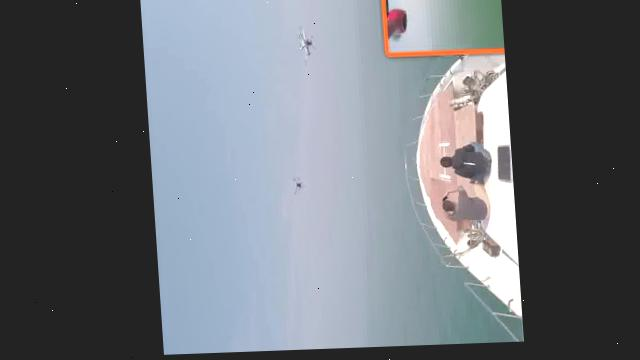drone: (432, 0, 519, 347)
